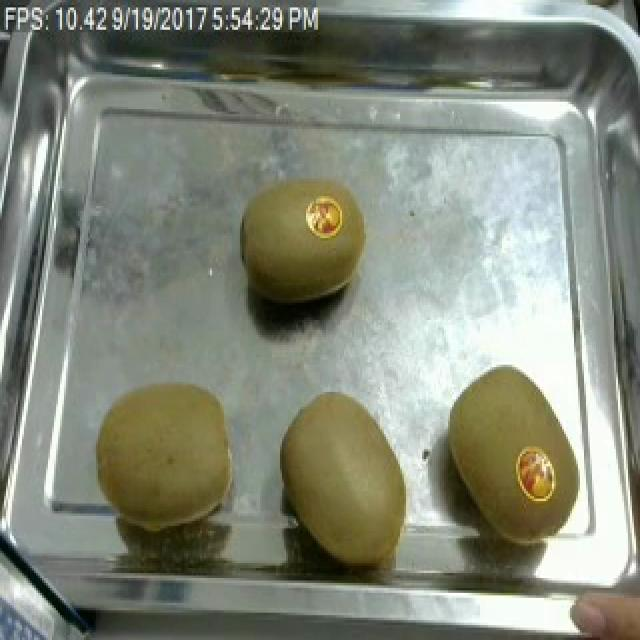Fruit: (270, 384, 418, 570), (86, 370, 244, 540), (438, 360, 584, 526), (232, 171, 374, 313), (562, 573, 640, 640)
